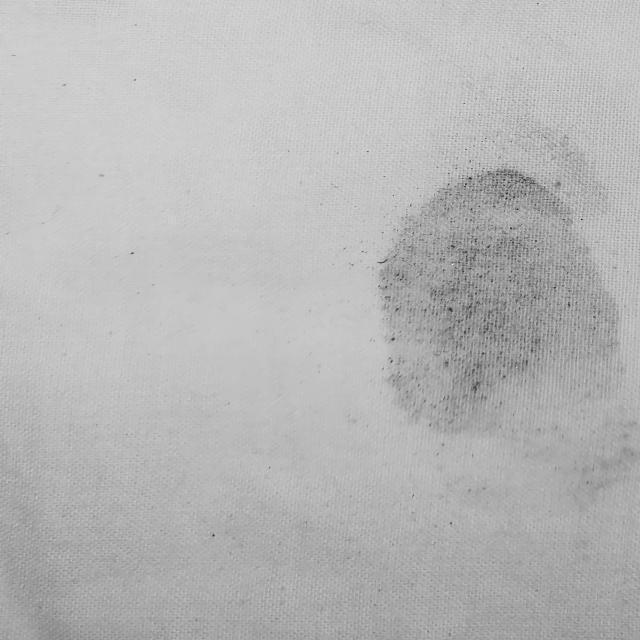Thread_other: (323, 118, 640, 526)
